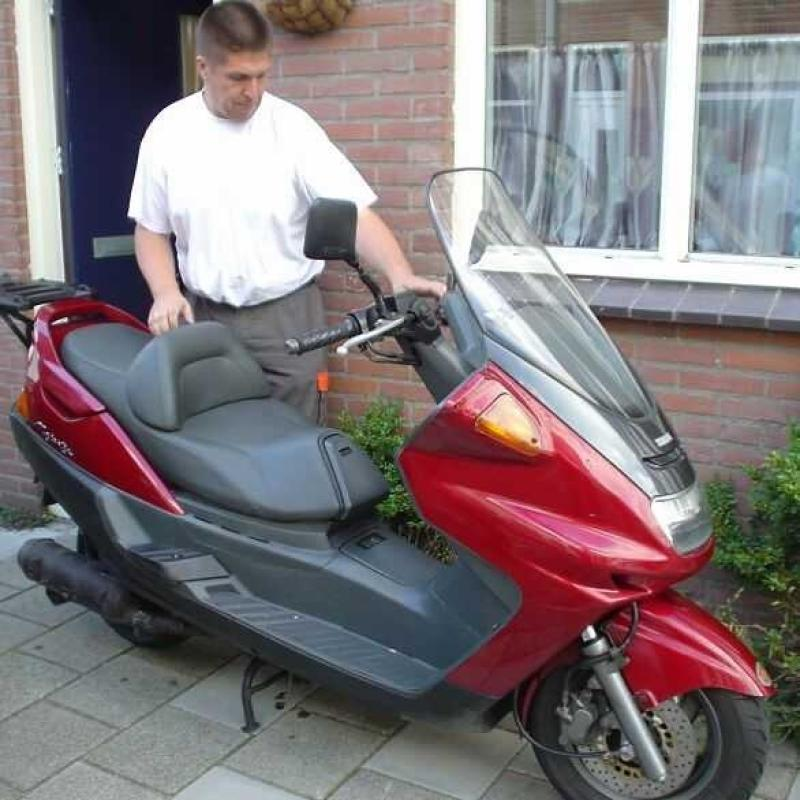bike: (16, 152, 790, 800)
